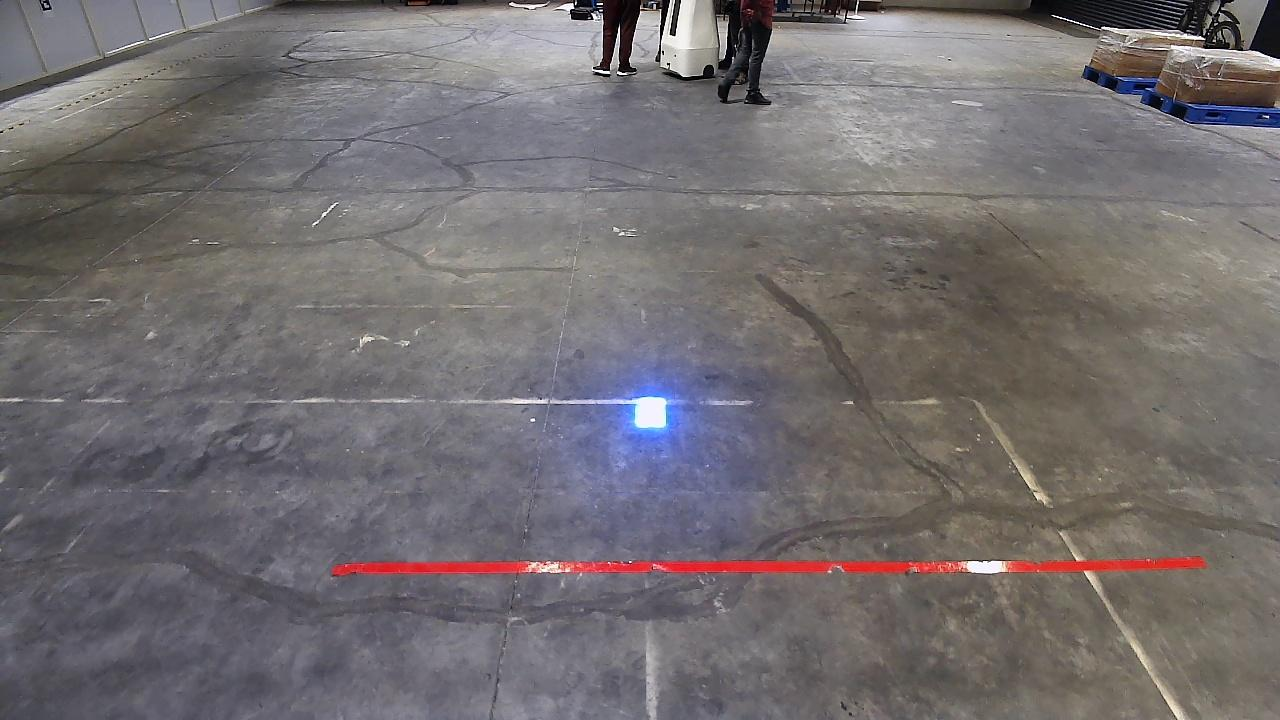red_line: (329, 559, 1213, 574)
